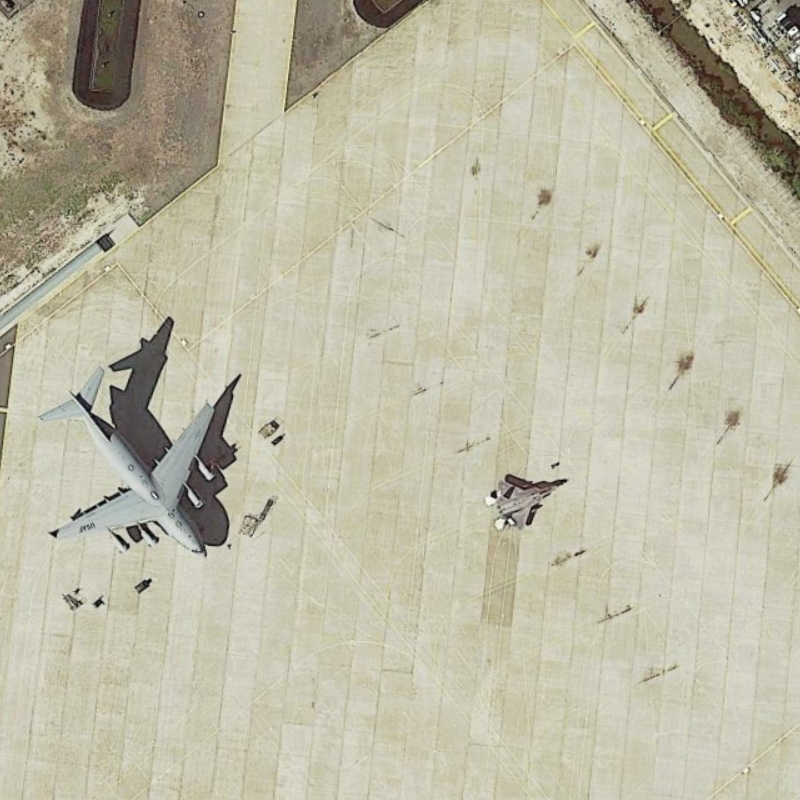A15: (480, 471, 570, 533)
A3: (35, 362, 223, 564)
